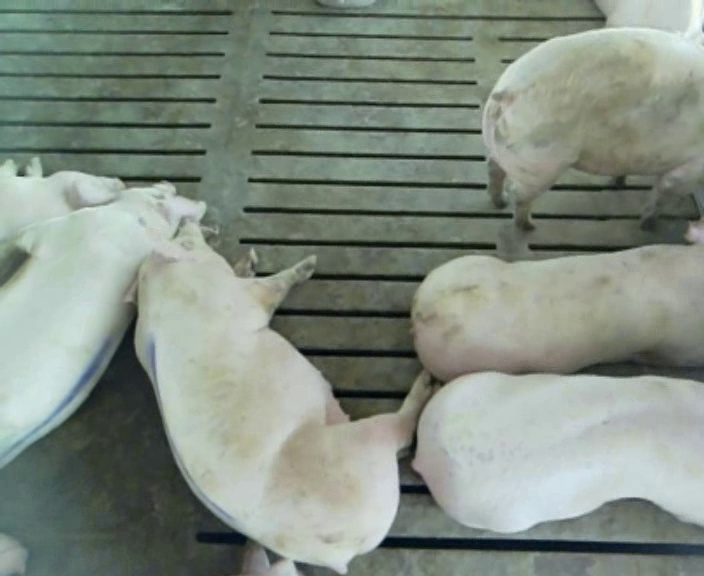pig: (123, 223, 430, 571), (413, 219, 703, 380), (413, 373, 703, 531), (482, 28, 703, 228), (0, 157, 124, 284), (597, 1, 703, 44)
